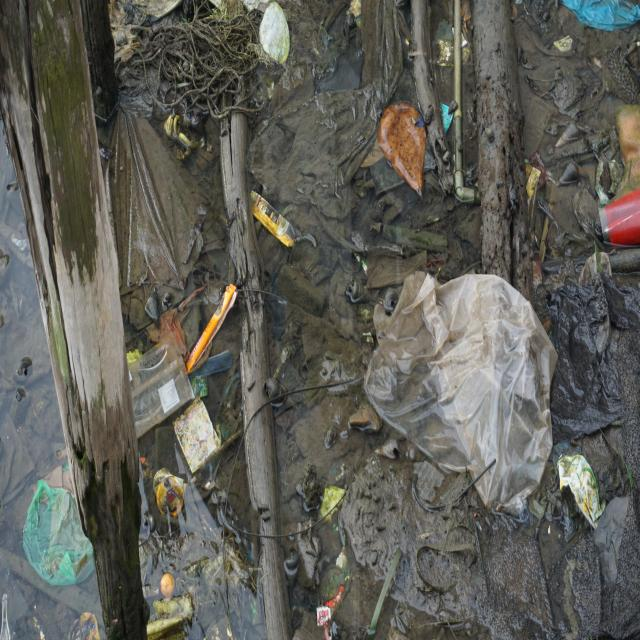Bungkus Makanan: (128, 341, 194, 441), (185, 278, 238, 375)
Bungkus Minuman: (251, 188, 297, 253)
Kantong Plastik: (363, 262, 557, 514), (21, 477, 97, 585)
